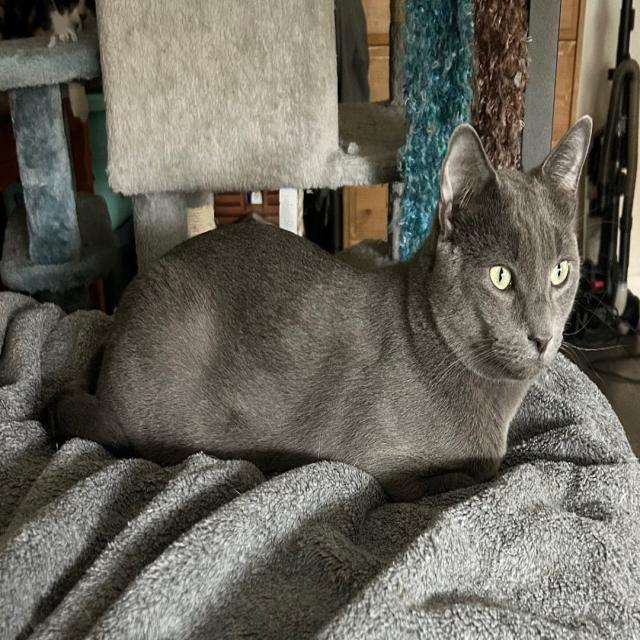russian_blue_cat: (389, 108, 606, 422)
